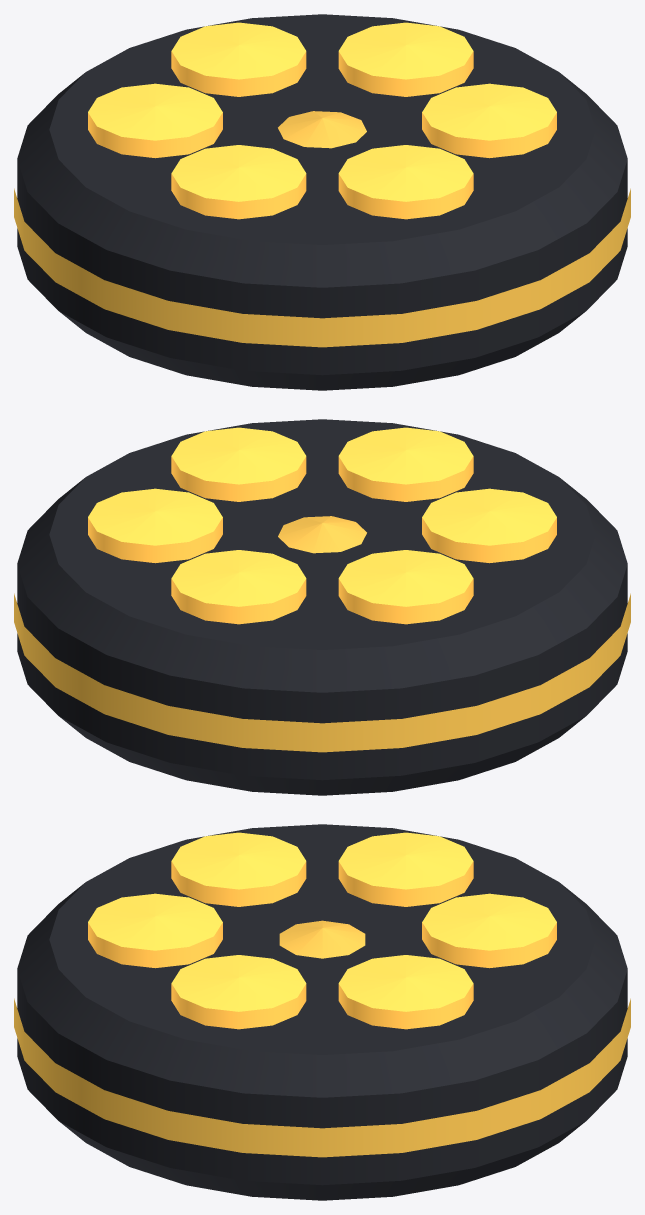
File: lb4_chambers_0.glb
3 views of the same model, one above another, from view 1: azimuth 30°, elevation 25°; view 2: azimuth 150°, elevation 25°; view 3: azimuth 270°, elevation 25° (orthographic).
Parts seen in each view (by area): view 1: lb4_chambers_0; view 2: lb4_chambers_0; view 3: lb4_chambers_0.
Boxes of the visible parts, x1=… form: lb4_chambers_0: x1=14, y1=14, x2=630, y2=390; lb4_chambers_0: x1=14, y1=419, x2=630, y2=795; lb4_chambers_0: x1=14, y1=824, x2=630, y2=1200.
Bounding box in the file's own units: 0.192 × 0.058 × 0.192.
